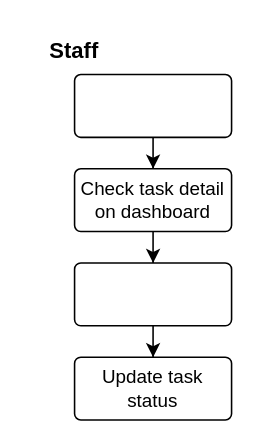
Image size: 259x447. Some labels were removed from this diagram. The shapes that lost their labels are listed below. From the top down, each one's centre as x and y in pixels, then its label:
(x=152, y=105): Task received
(x=152, y=293): Finish task
